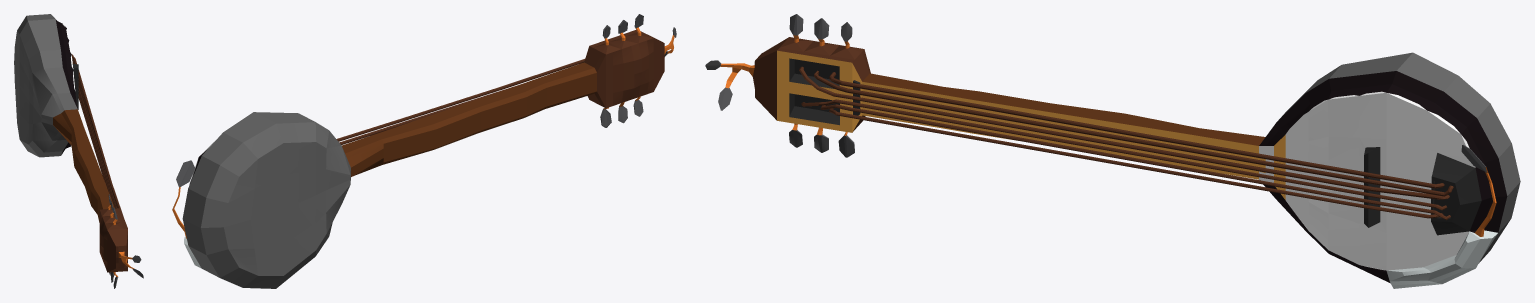
File: banjo_clean.glb
The picture shows the model from 3 angles, left to right: view 1: azimuth 30°, elevation 25°; view 2: azimuth 150°, elevation 25°; view 3: azimuth 270°, elevation 25°; orthographic projection. The views are drawn at different scales.
Parts seen in each view (by area): view 1: Banjo; view 2: Banjo; view 3: Banjo.
Part boxes in pixels (x1,y1,x2,y2): Banjo: [14, 14, 143, 288]; Banjo: [172, 14, 676, 288]; Banjo: [705, 14, 1520, 288].
Size of the model in its own units: 2.18 by 1.63 by 5.59.
